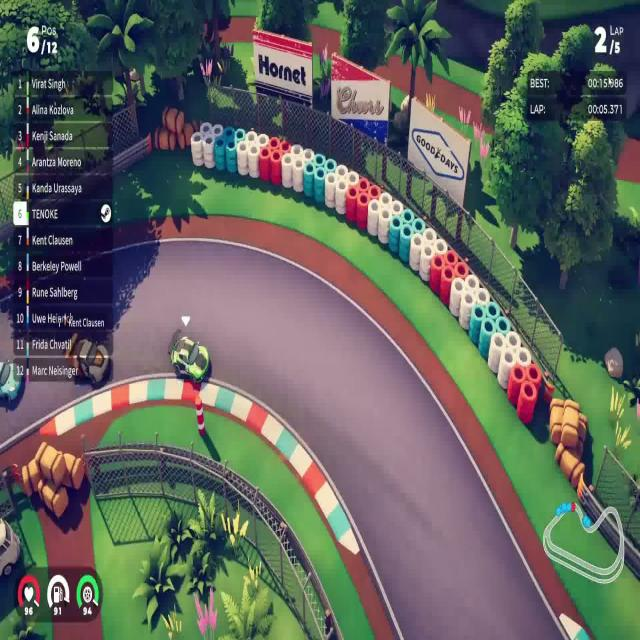car: (168, 323, 211, 386), (66, 333, 110, 387)
